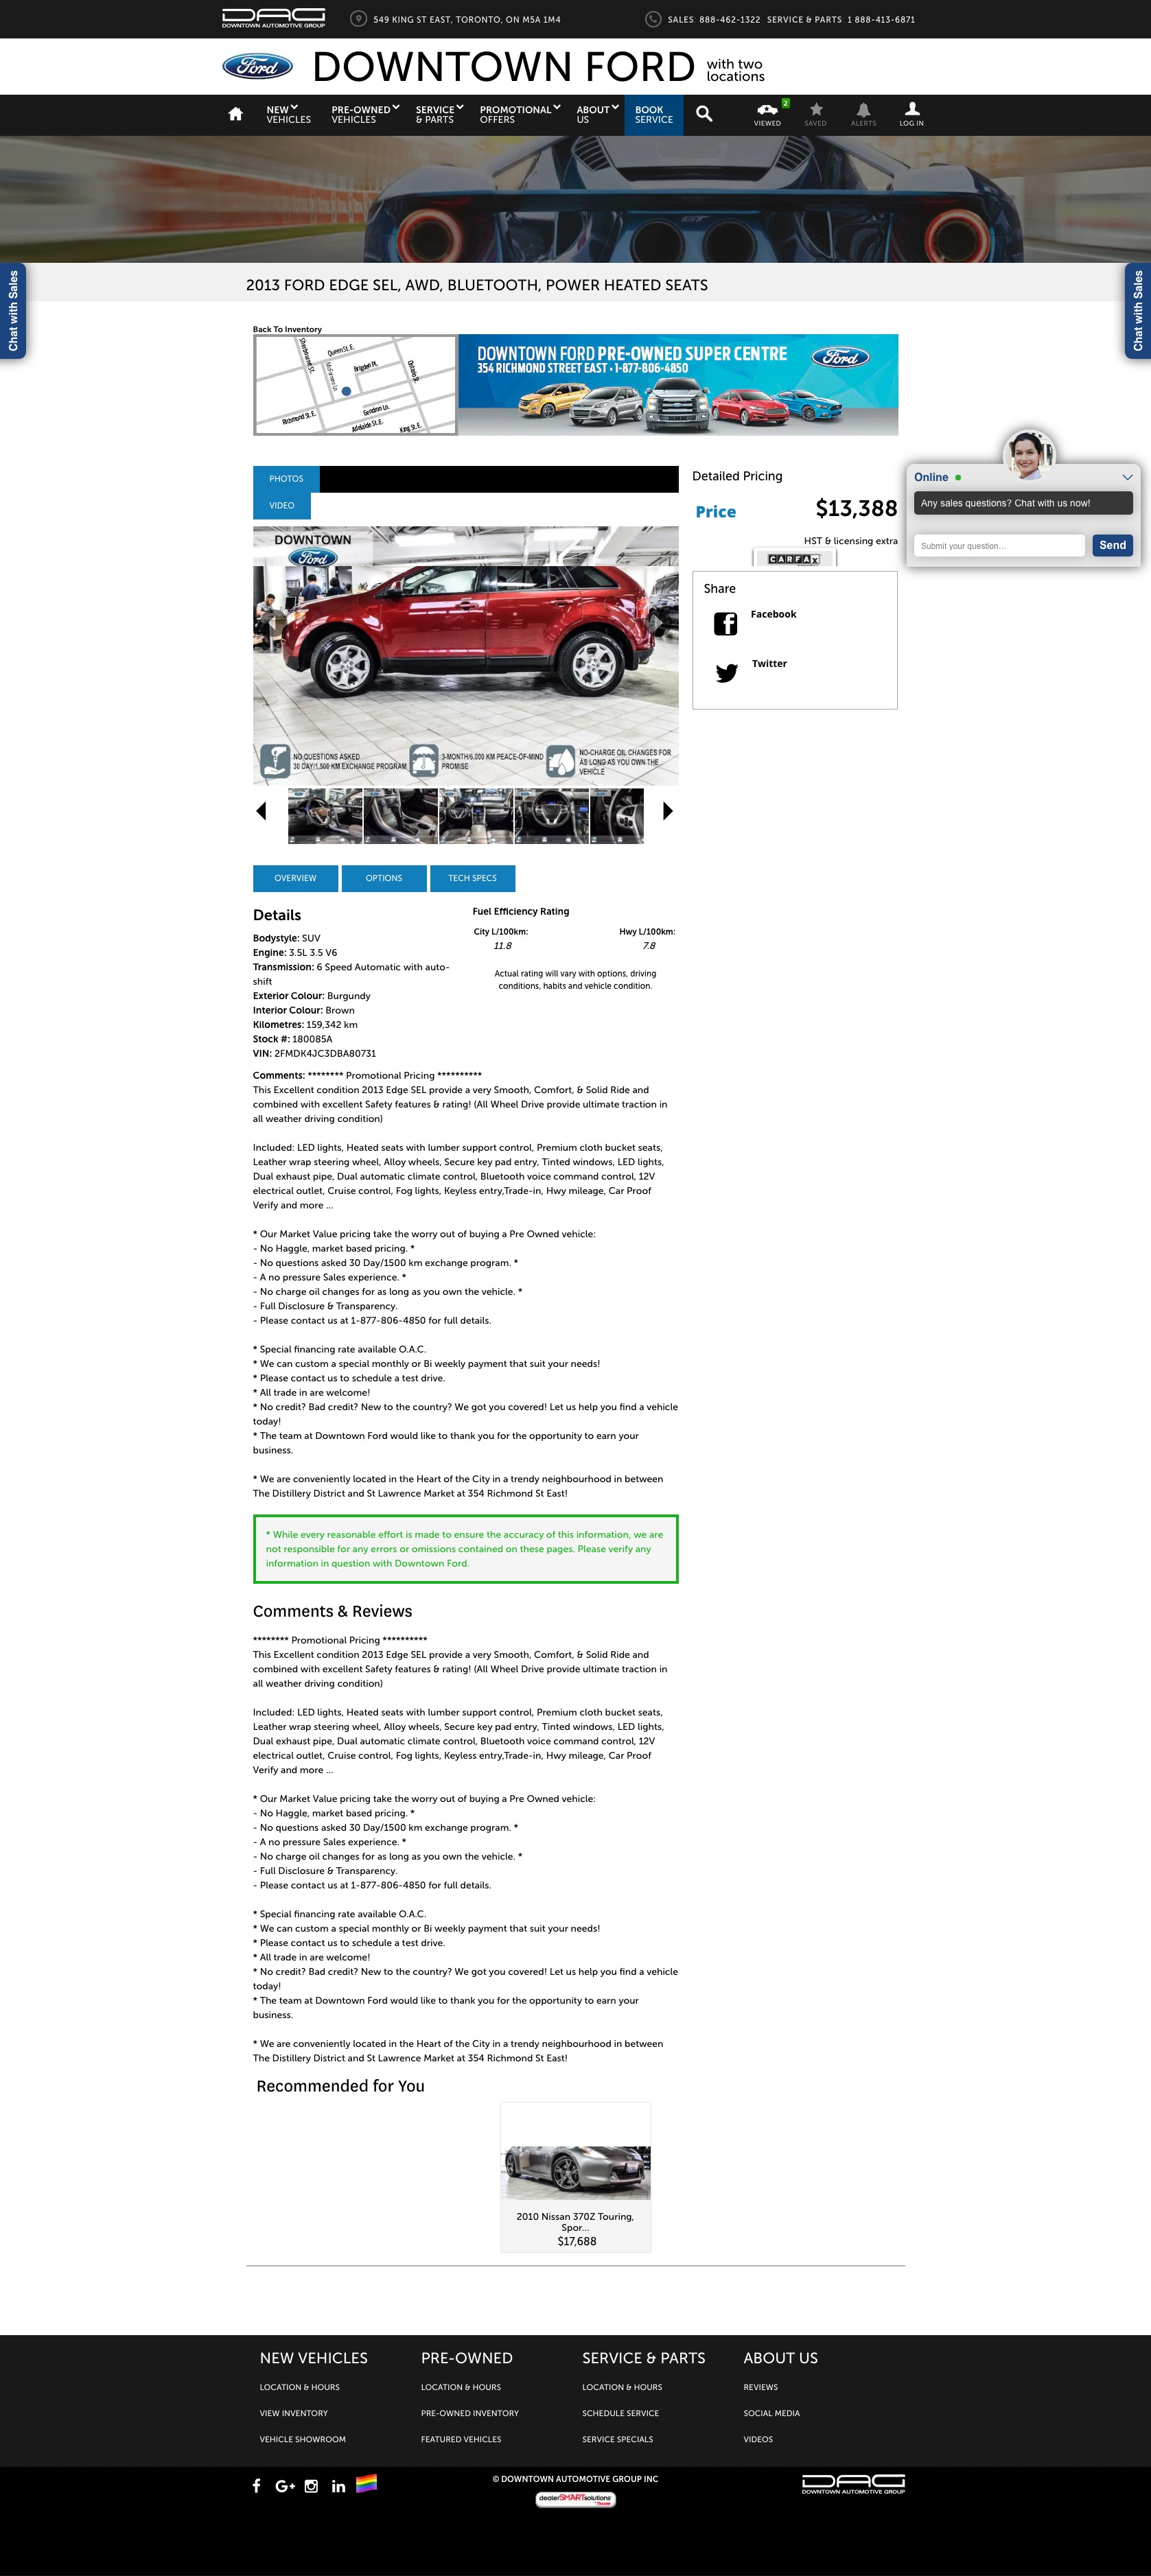car: (663, 800, 674, 821)
